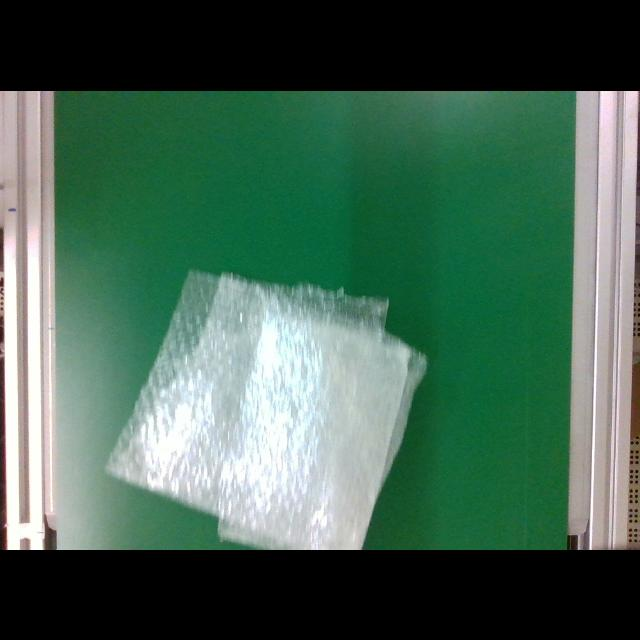scrap_plastic: (101, 263, 427, 549)
